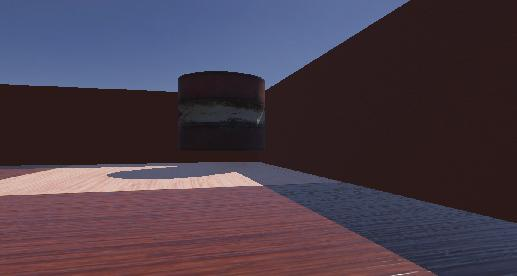OilBarrel: (172, 61, 283, 183)
